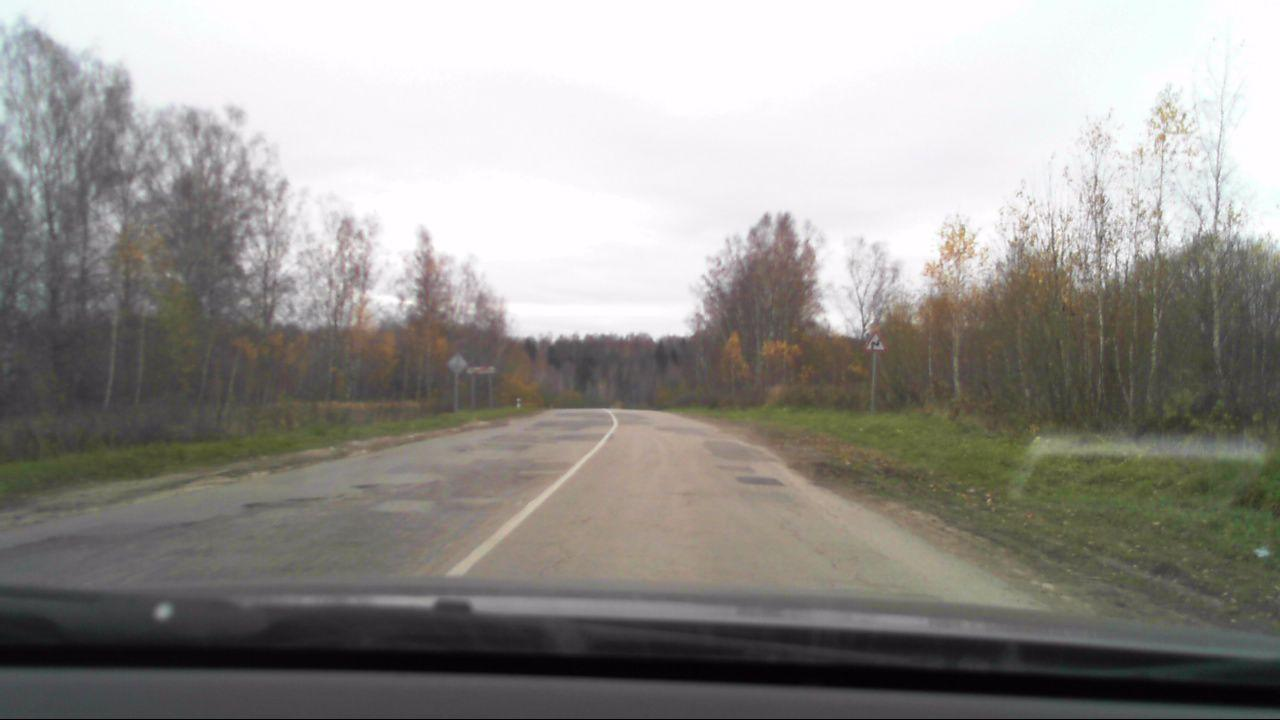1_12_1: (864, 332, 887, 352)
